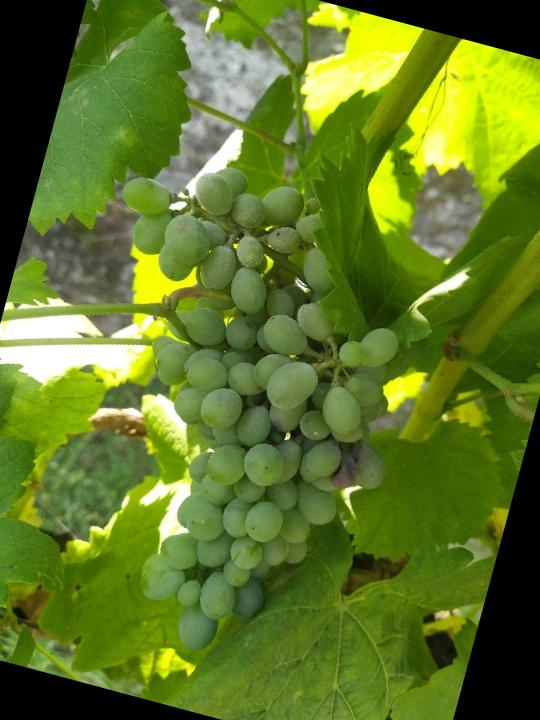grape: (5, 139, 462, 700)
